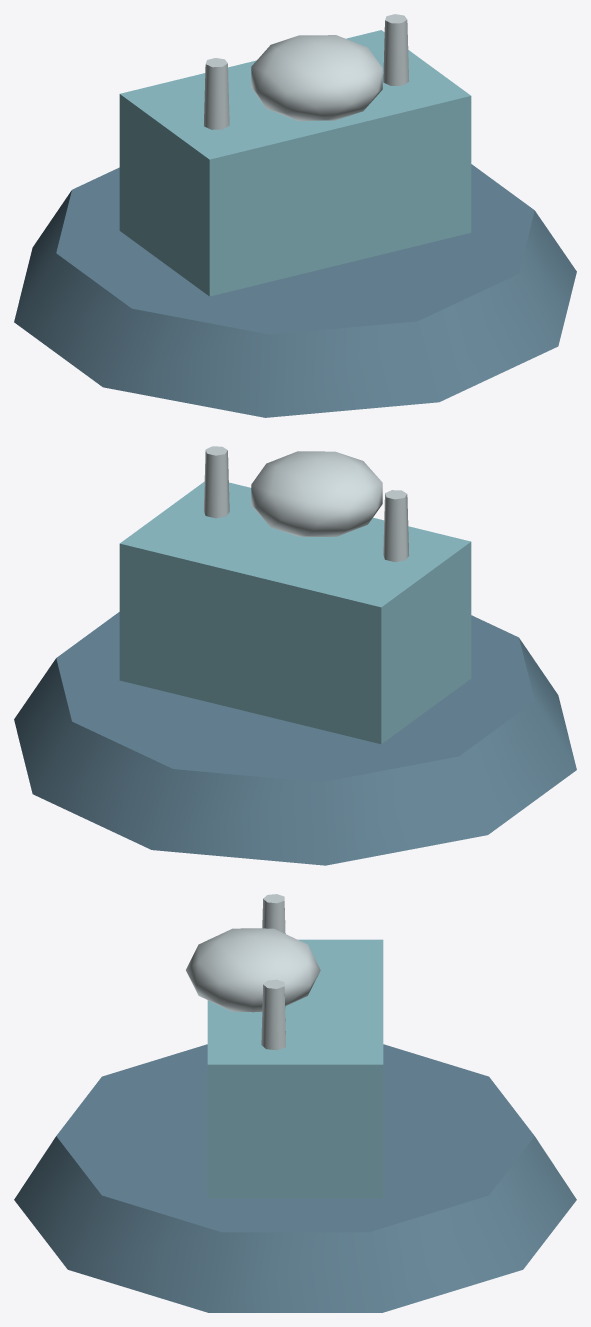
The model's file is sanctuary.glb.
The picture shows the model from 3 angles, top to bottom: view 1: azimuth 30°, elevation 25°; view 2: azimuth 150°, elevation 25°; view 3: azimuth 270°, elevation 25°; orthographic projection. The views are drawn at different scales.
Visible parts, largest first — view 1: base, altar, emblem, candle_-1, candle_1; view 2: base, altar, emblem, candle_1, candle_-1; view 3: base, altar, emblem, candle_1, candle_-1.
Part boxes in pixels (box(x1,y1,x2,y2)): base: box(14, 164, 576, 417); altar: box(119, 30, 471, 296); emblem: box(251, 35, 382, 120); candle_-1: box(204, 58, 229, 129); candle_1: box(383, 14, 409, 85); base: box(14, 612, 576, 865); altar: box(119, 481, 471, 744); emblem: box(251, 451, 382, 536); candle_1: box(204, 446, 229, 518); candle_-1: box(383, 490, 409, 561); base: box(14, 1044, 576, 1312); altar: box(207, 939, 383, 1198); emblem: box(186, 928, 320, 1012); candle_1: box(261, 979, 285, 1050); candle_-1: box(262, 894, 285, 933).
Size of what is drawn, in the model's own units: 3.8 by 2.06 by 4.
